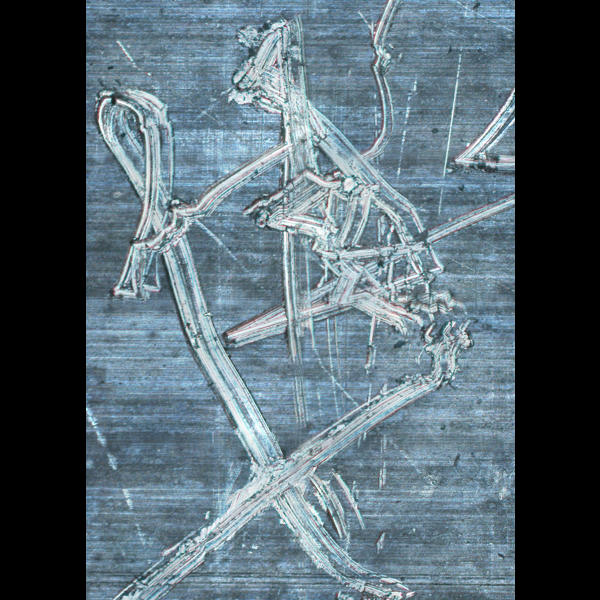d: (138, 320, 458, 600), (232, 142, 474, 383), (92, 72, 210, 318), (217, 8, 321, 151), (335, 0, 401, 166), (435, 74, 514, 194)
